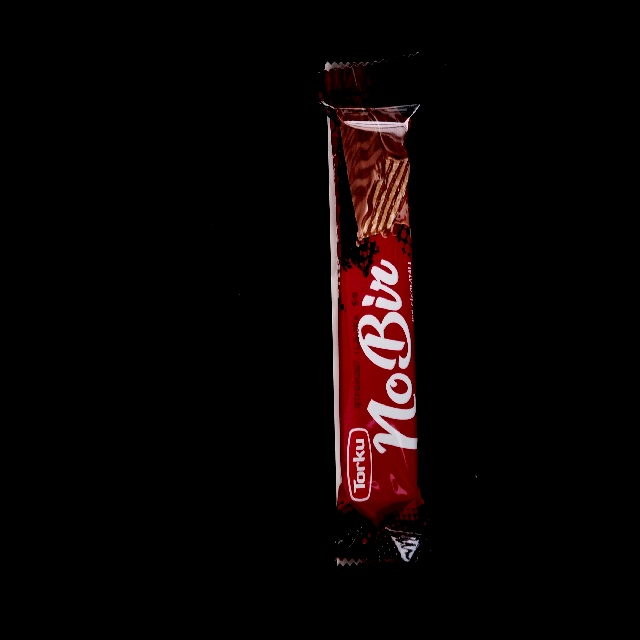torku_nobir_gofret: (325, 66, 422, 562)
